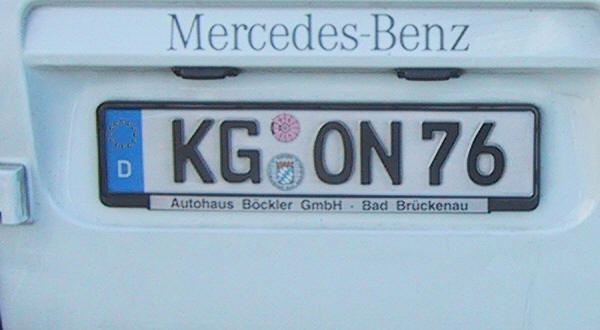license_plate: (98, 101, 540, 208)
